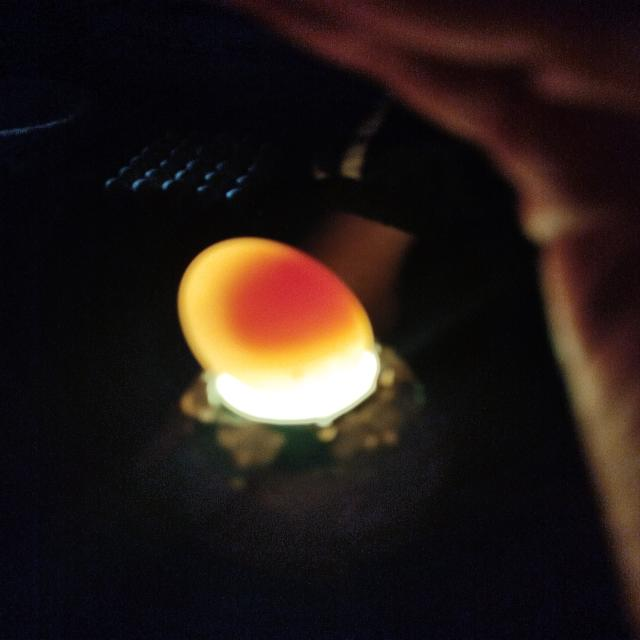Gema Quebrada: (231, 253, 363, 351)
